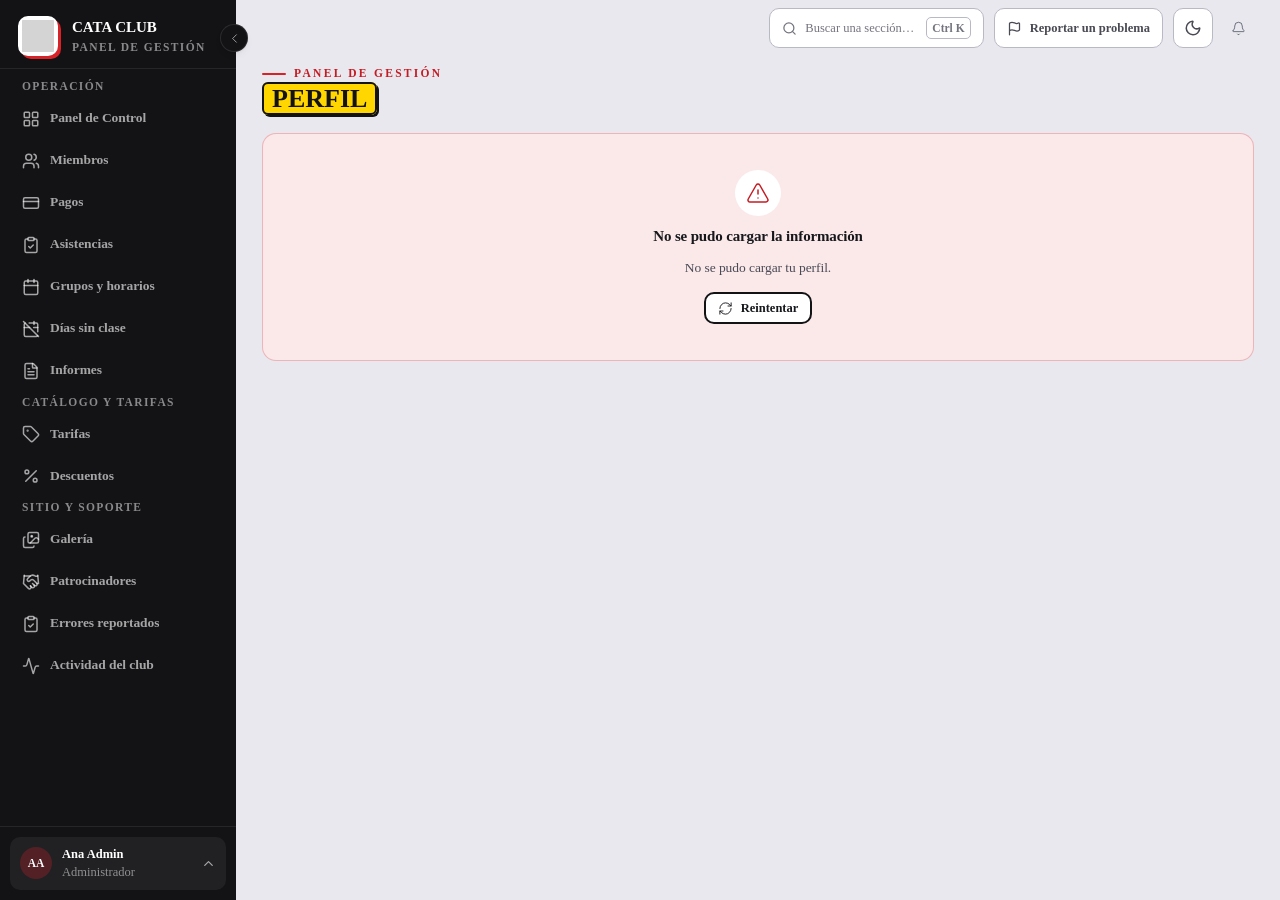
Test: ProfilePage — staff view loading/error (structurally distinct from the student branch) › shows an error with retry when fetchMiPerfil fails, and refetches on retry
Expected: the message shows "No se pudo cargar tu perfil.", [685, 260, 831, 275]
Click the button "Reintentar": (758, 308) [704, 292, 812, 324]
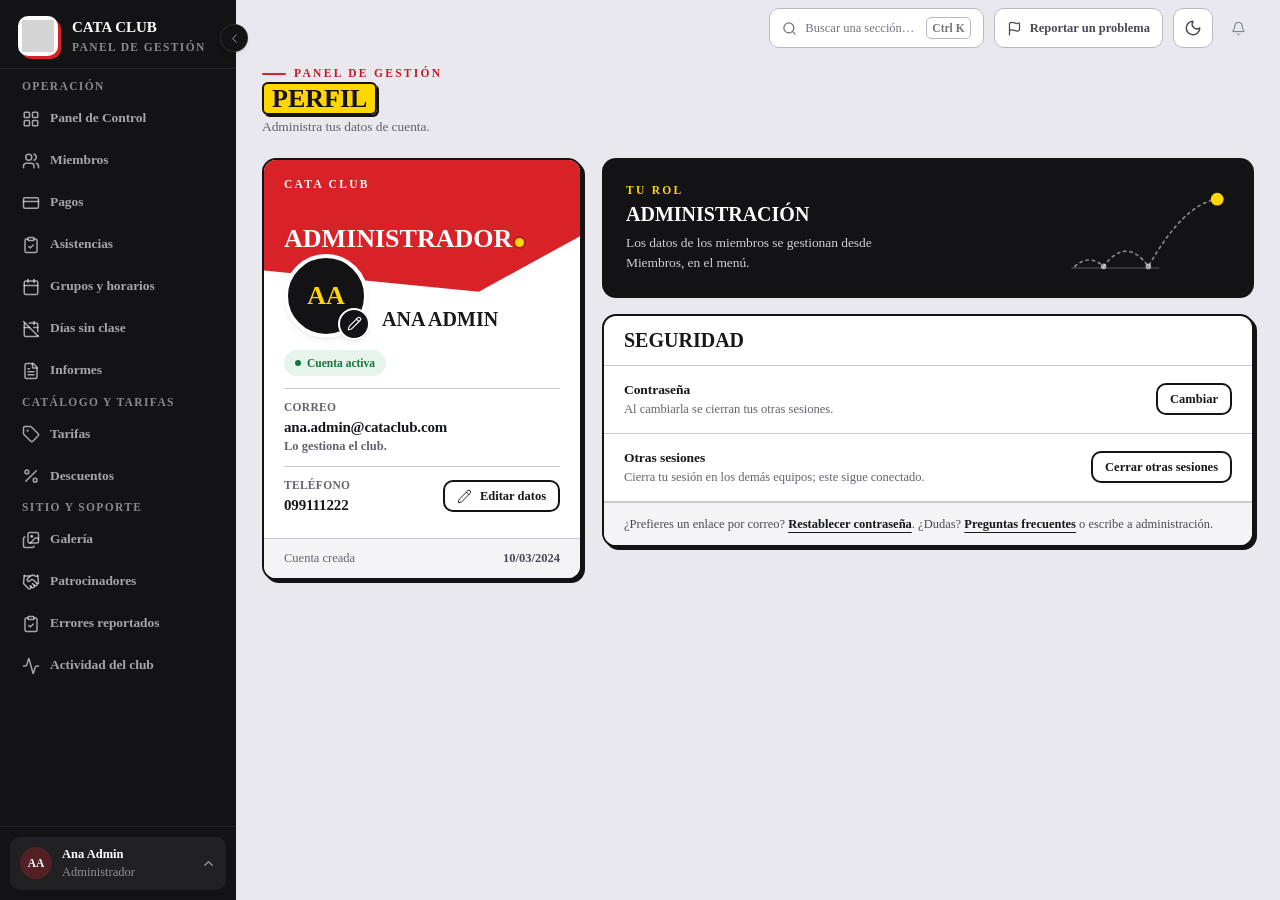
Result: the number of headings "Ana Admin" is 1 at [382, 307, 498, 338]
